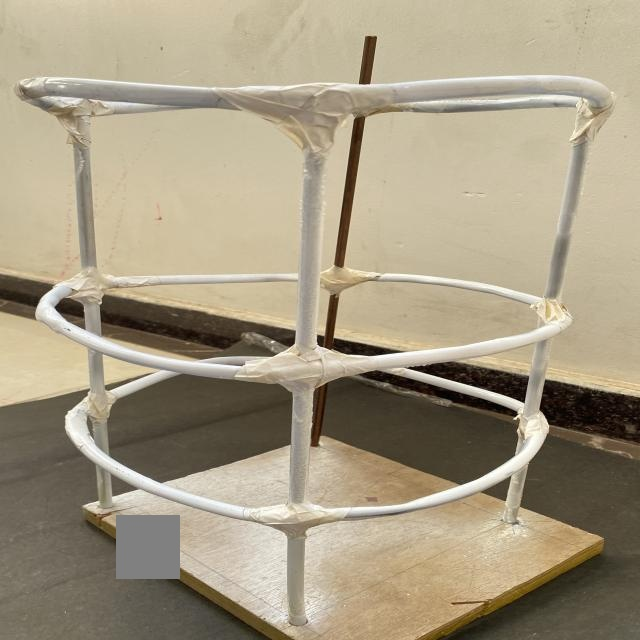silo: (11, 73, 604, 640)
